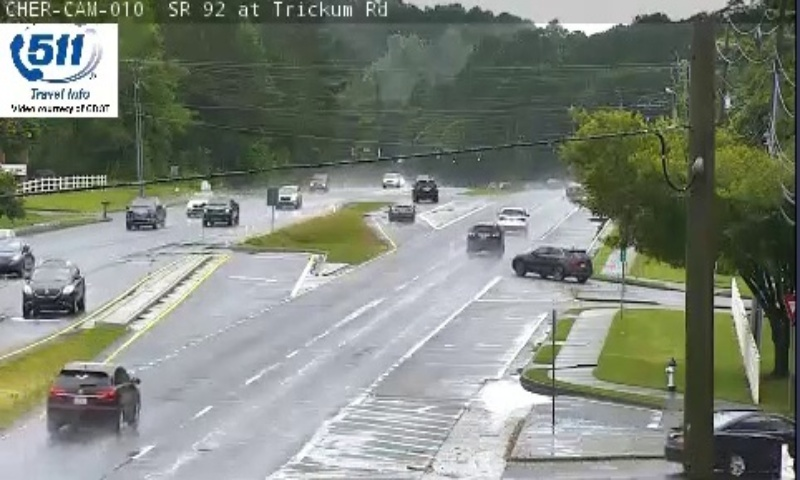car: (45, 363, 138, 430), (468, 223, 502, 252), (499, 205, 526, 232), (388, 202, 416, 223)
